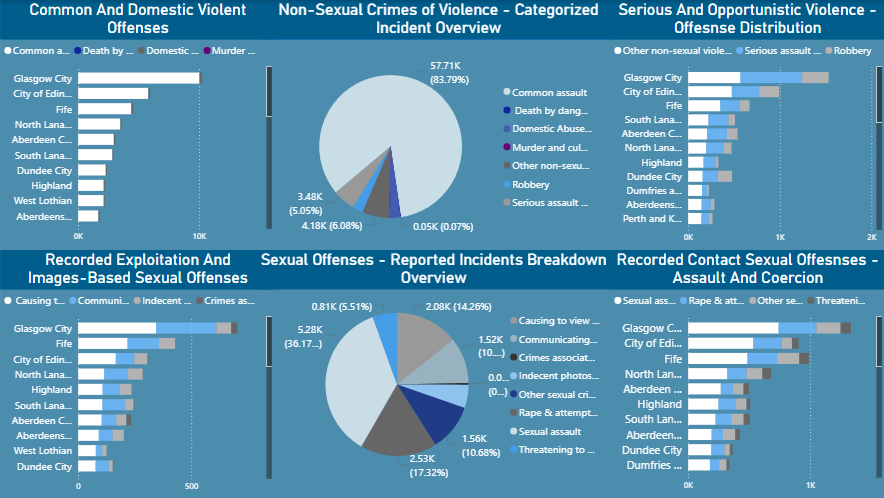

What the dashboard file says about the page in this screenshot:
{"tool":"powerbi","page":{"name":"Page 2","canvas":[1280,720],"ordinal":1},"visuals":[{"type":"barChart","title":"Serious And Opportunistic Violence - Offesnse Distribution","fields":{"Category":["Scotland Crime Report 2022-23, Cities Breakdown.Reference Area"],"Y":["Sum(Scotland Crime Report 2022-23, Cities Breakdown.Crimes: Group 1: Other non-sexual violence)","Sum(Scotland Crime Report 2022-23, Cities Breakdown.Crimes: Group 1: Serious assault and attempted murder)","Sum(Scotland Crime Report 2022-23, Cities Breakdown.Crimes: Group 1: Robbery)"]},"box":[881.9,0,398.1,361.2],"z":0},{"type":"barChart","title":"Recorded Exploitation And Images-Based Sexual Offenses","fields":{"Category":["Scotland Crime Report 2022-23, Cities Breakdown.Reference Area"],"Y":["Sum(Scotland Crime Report 2022-23, Cities Breakdown.Crimes: Group 2: Causing to view sexual activity or images)","Sum(Scotland Crime Report 2022-23, Cities Breakdown.Crimes: Group 2: Communicating indecently)","Sum(Scotland Crime Report 2022-23, Cities Breakdown.Crimes: Group 2: Indecent photos of children)","Sum(Scotland Crime Report 2022-23, Cities Breakdown.Crimes: Group 2: Crimes associated with prostitution)"]},"box":[0,361.2,398.1,359.5],"z":1000},{"type":"barChart","title":"Common And Domestic Violent Offenses","fields":{"Category":["Scotland Crime Report 2022-23, Cities Breakdown.Reference Area"],"Y":["Sum(Scotland Crime Report 2022-23, Cities Breakdown.Crimes: Group 1: Common assault)","Sum(Scotland Crime Report 2022-23, Cities Breakdown.Crimes: Group 1: Death by dangerous driving)","Sum(Scotland Crime Report 2022-23, Cities Breakdown.Crimes: Group 1: Domestic Abuse (Scotland) Act 2018)","Sum(Scotland Crime Report 2022-23, Cities Breakdown.Crimes: Group 1: Murder and culpable homicide)"]},"box":[0,0,398.1,359.5],"z":2000},{"type":"barChart","title":"Recorded Contact Sexual Offesnses - Assault And Coercion","fields":{"Category":["Scotland Crime Report 2022-23, Cities Breakdown.Reference Area"],"Y":["Sum(Scotland Crime Report 2022-23, Cities Breakdown.Crimes: Group 2: Sexual assault)","Sum(Scotland Crime Report 2022-23, Cities Breakdown.Crimes: Group 2: Rape & attempted rape)","Sum(Scotland Crime Report 2022-23, Cities Breakdown.Crimes: Group 2: Other sexual crimes)","Sum(Scotland Crime Report 2022-23, Cities Breakdown.Crimes: Group 2: Threatening to or disclosing intimate images)"]},"box":[881.9,361.2,398.1,357.8],"z":3000},{"type":"pieChart","fields":{"Y":["Sum(Scotland Crime Report 2022-23, Cities Breakdown.Crimes: Group 1: Common assault)","Sum(Scotland Crime Report 2022-23, Cities Breakdown.Crimes: Group 1: Death by dangerous driving)","Sum(Scotland Crime Report 2022-23, Cities Breakdown.Crimes: Group 1: Domestic Abuse (Scotland) Act 2018)","Sum(Scotland Crime Report 2022-23, Cities Breakdown.Crimes: Group 1: Murder and culpable homicide)","Sum(Scotland Crime Report 2022-23, Cities Breakdown.Crimes: Group 1: Other non-sexual violence)","Sum(Scotland Crime Report 2022-23, Cities Breakdown.Crimes: Group 1: Robbery)","Sum(Scotland Crime Report 2022-23, Cities Breakdown.Crimes: Group 1: Serious assault and attempted murder)"]},"box":[397.6,46.3,474.2,331.1],"z":4000},{"type":"pieChart","fields":{"Y":["Sum(Scotland Crime Report 2022-23, Cities Breakdown.Crimes: Group 2: Causing to view sexual activity or images)","Sum(Scotland Crime Report 2022-23, Cities Breakdown.Crimes: Group 2: Communicating indecently)","Sum(Scotland Crime Report 2022-23, Cities Breakdown.Crimes: Group 2: Crimes associated with prostitution)","Sum(Scotland Crime Report 2022-23, Cities Breakdown.Crimes: Group 2: Indecent photos of children)","Sum(Scotland Crime Report 2022-23, Cities Breakdown.Crimes: Group 2: Other sexual crimes)","Sum(Scotland Crime Report 2022-23, Cities Breakdown.Crimes: Group 2: Rape & attempted rape)","Sum(Scotland Crime Report 2022-23, Cities Breakdown.Crimes: Group 2: Sexual assault)","Sum(Scotland Crime Report 2022-23, Cities Breakdown.Crimes: Group 2: Threatening to or disclosing intimate images)"]},"box":[406.5,389.7,475.4,330.9],"z":5000},{"type":"shape","title":"Non-Sexual Crimes of Violence - Categorized Incident Overview ","box":[378.8,0,510.4,57.8],"z":6000},{"type":"shape","title":"Sexual Offenses - Reported Incidents Breakdown Overview","box":[371.2,361.2,510.7,57.1],"z":7000},{"type":"slicer","fields":{"Values":["Scotland Crime Report 2022-23, Cities Breakdown.Reference Area"]},"box":[0,705.5,13,13],"z":8000}]}

Visuals, with their boxes in screenshot pixels (x1, y1, x2, y2), scaled from the page's 1280x720 canvas onto the 884x498 screenshot:
"Serious And Opportunistic Violence - Offesnse Distribution" barChart: {"left": 609, "top": 0, "right": 883, "bottom": 250}
"Recorded Exploitation And Images-Based Sexual Offenses" barChart: {"left": 0, "top": 250, "right": 275, "bottom": 497}
"Common And Domestic Violent Offenses" barChart: {"left": 0, "top": 0, "right": 275, "bottom": 249}
"Recorded Contact Sexual Offesnses - Assault And Coercion" barChart: {"left": 609, "top": 250, "right": 883, "bottom": 497}
pieChart - Sum(Scotland Crime Report 2022-23, Cities Breakdown.Crimes: Group 1: Common assault) x Sum(Scotland Crime Report 2022-23, Cities Breakdown.Crimes: Group 1: Death by dangerous driving): {"left": 275, "top": 32, "right": 602, "bottom": 261}
pieChart - Sum(Scotland Crime Report 2022-23, Cities Breakdown.Crimes: Group 2: Causing to view sexual activity or images) x Sum(Scotland Crime Report 2022-23, Cities Breakdown.Crimes: Group 2: Communicating indecently): {"left": 281, "top": 270, "right": 609, "bottom": 497}
"Non-Sexual Crimes of Violence - Categorized Incident Overview " shape: {"left": 262, "top": 0, "right": 614, "bottom": 40}
"Sexual Offenses - Reported Incidents Breakdown Overview" shape: {"left": 256, "top": 250, "right": 609, "bottom": 289}
slicer - Scotland Crime Report 2022-23, Cities Breakdown.Reference Area: {"left": 0, "top": 488, "right": 9, "bottom": 497}
